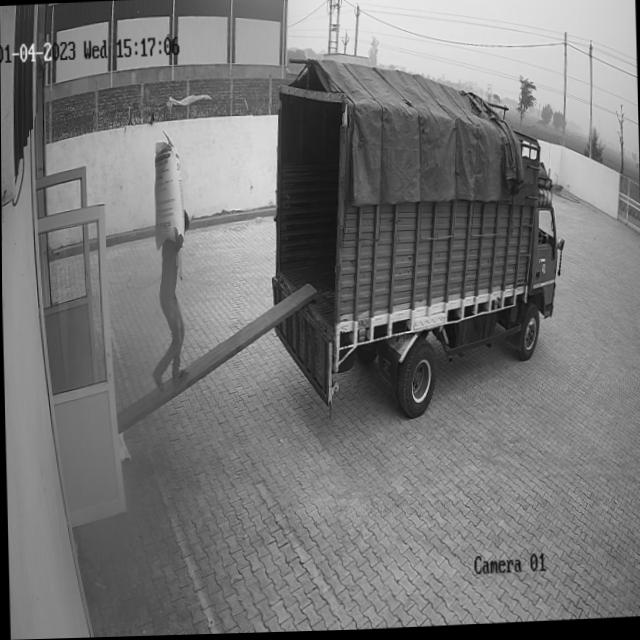sack: (152, 135, 185, 251)
